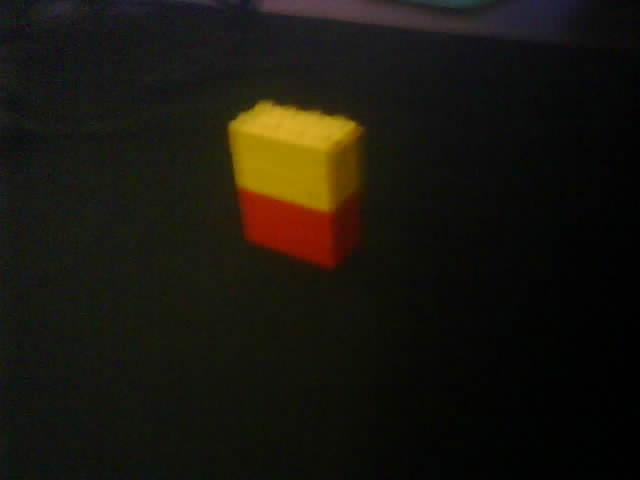lego: (225, 99, 367, 269)
